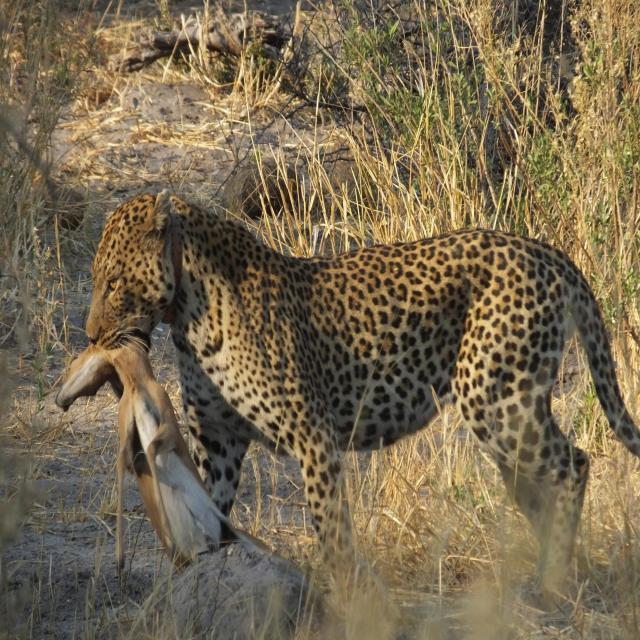Leopard: (94, 194, 624, 612)
